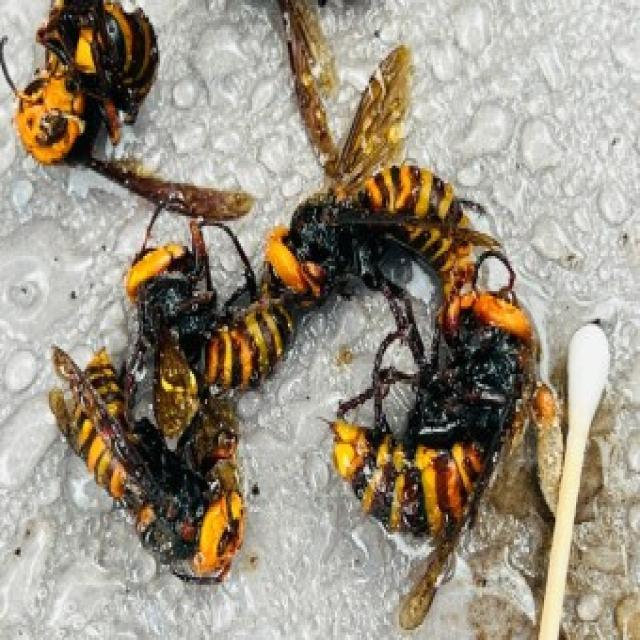Wasp: (319, 274, 545, 624), (4, 2, 248, 218), (43, 356, 257, 592), (282, 39, 469, 293)
